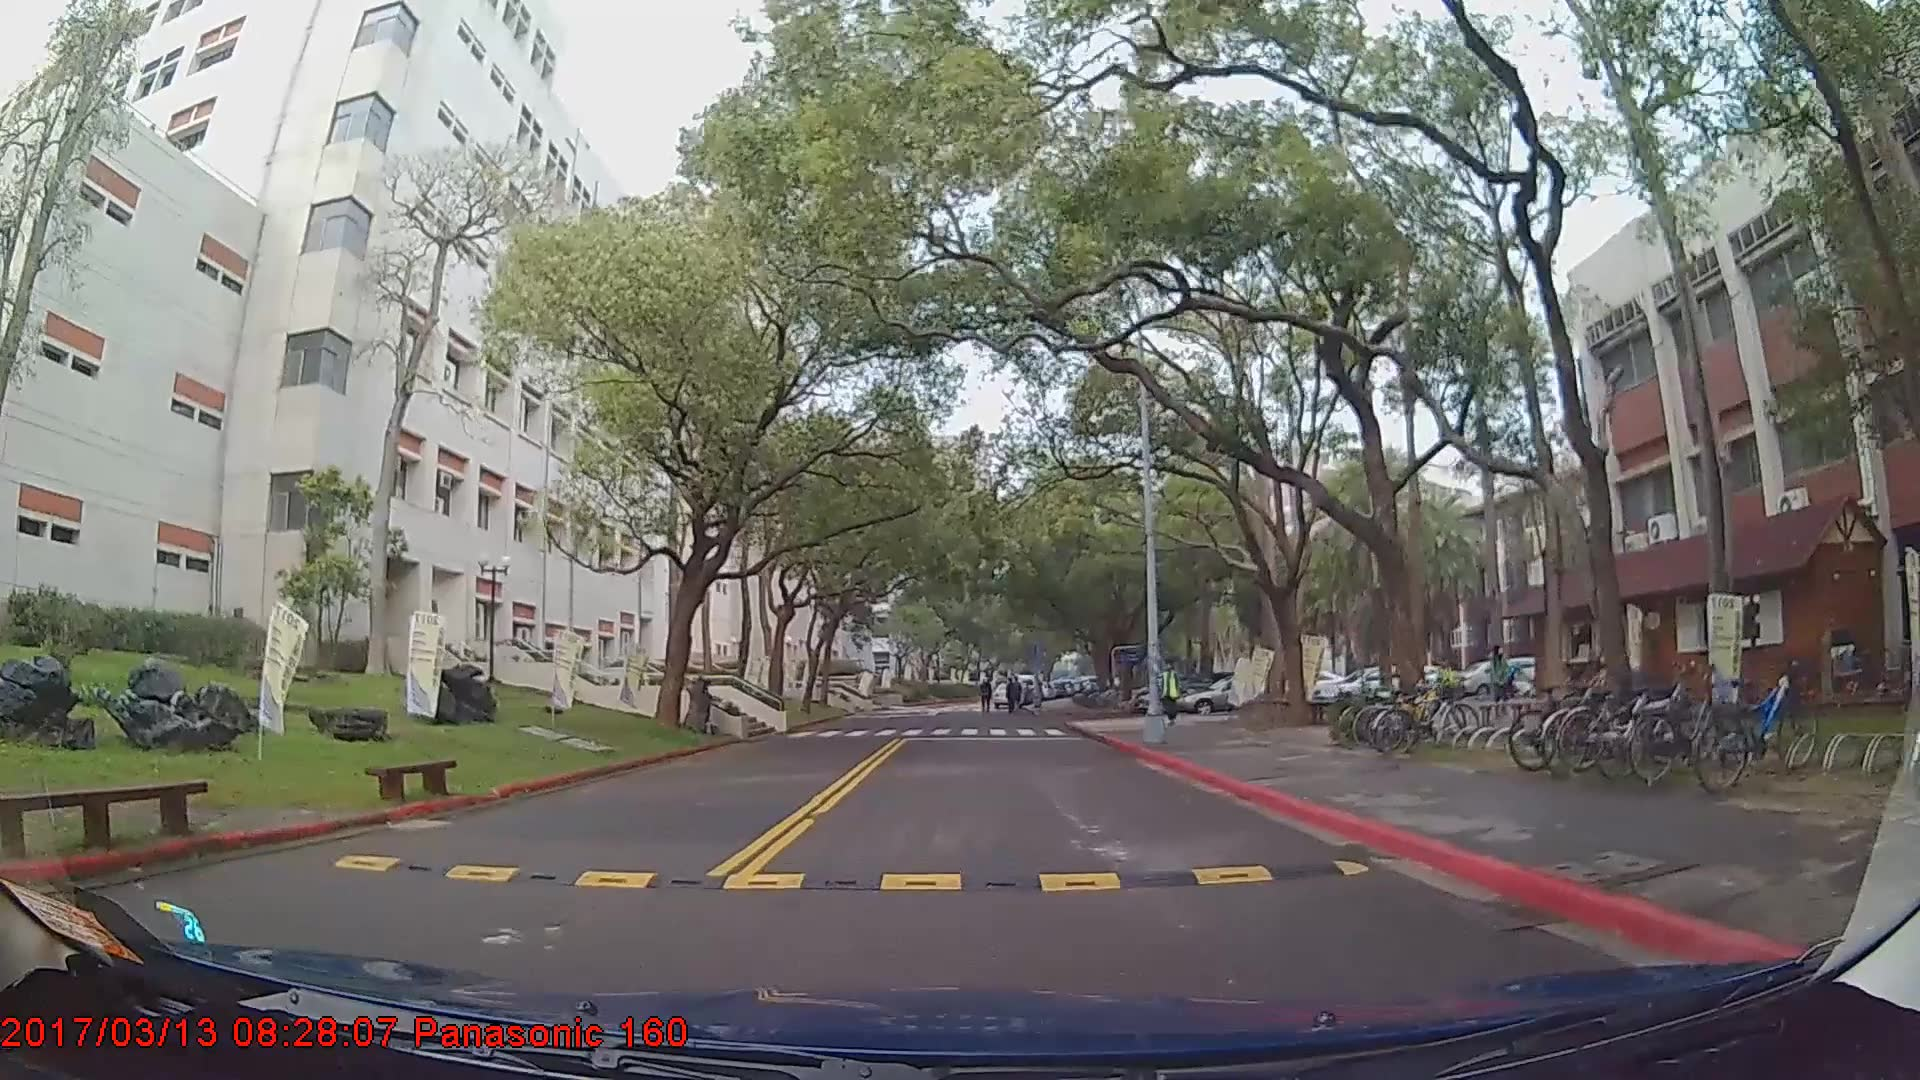vehicle: (1176, 674, 1286, 713)
